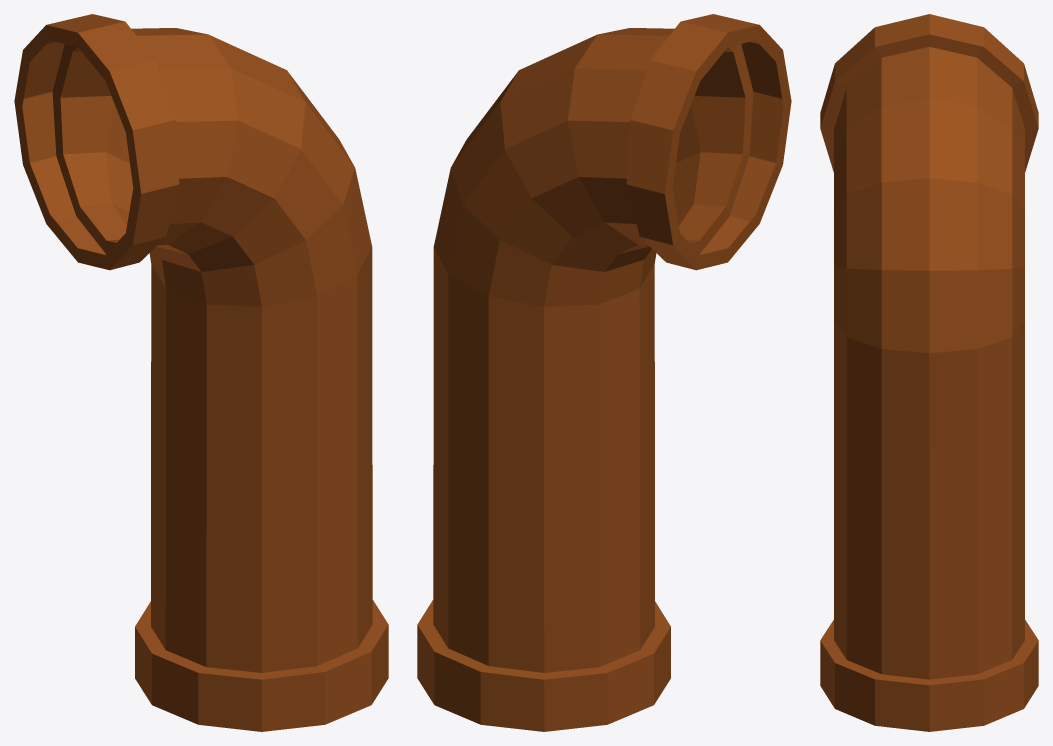
File: hook_pipe.fbx
The picture shows the model from 3 angles, left to right: view 1: azimuth 30°, elevation 25°; view 2: azimuth 150°, elevation 25°; view 3: azimuth 270°, elevation 25°; orthographic projection. The views are drawn at different scales.
Parts seen in each view (by area): view 1: Plane; view 2: Plane; view 3: Plane.
Boxes of the visible parts, <box> form: Plane: <box>14,14,388,731</box>; Plane: <box>417,14,791,731</box>; Plane: <box>820,14,1038,731</box>.
Bounding box in the file's own units: 1603 × 3600 × 1198.
